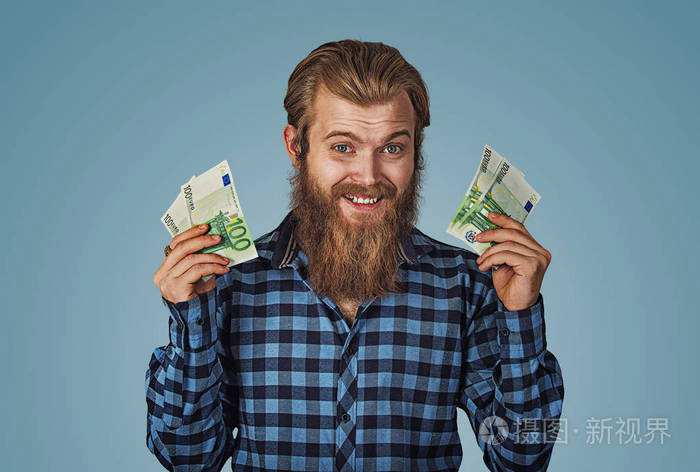no-phone: (446, 143, 554, 308), (146, 159, 259, 303)
